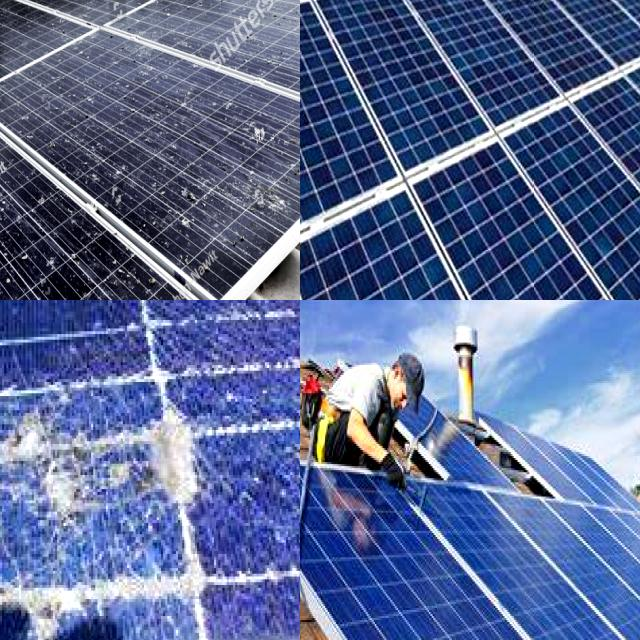bird: (106, 150, 150, 220), (172, 187, 202, 242), (252, 178, 290, 220), (0, 260, 24, 300), (242, 114, 270, 144), (0, 247, 15, 300), (16, 237, 38, 267)
crack: (362, 100, 640, 300), (300, 452, 565, 640), (389, 442, 640, 640), (306, 0, 494, 179), (491, 78, 640, 300), (399, 0, 567, 170), (300, 183, 527, 300), (300, 9, 414, 239), (492, 481, 640, 640), (530, 468, 640, 640), (565, 61, 640, 300), (458, 0, 623, 106), (508, 0, 640, 81), (554, 0, 640, 67)
hotspot: (0, 386, 205, 534), (0, 536, 218, 640)
